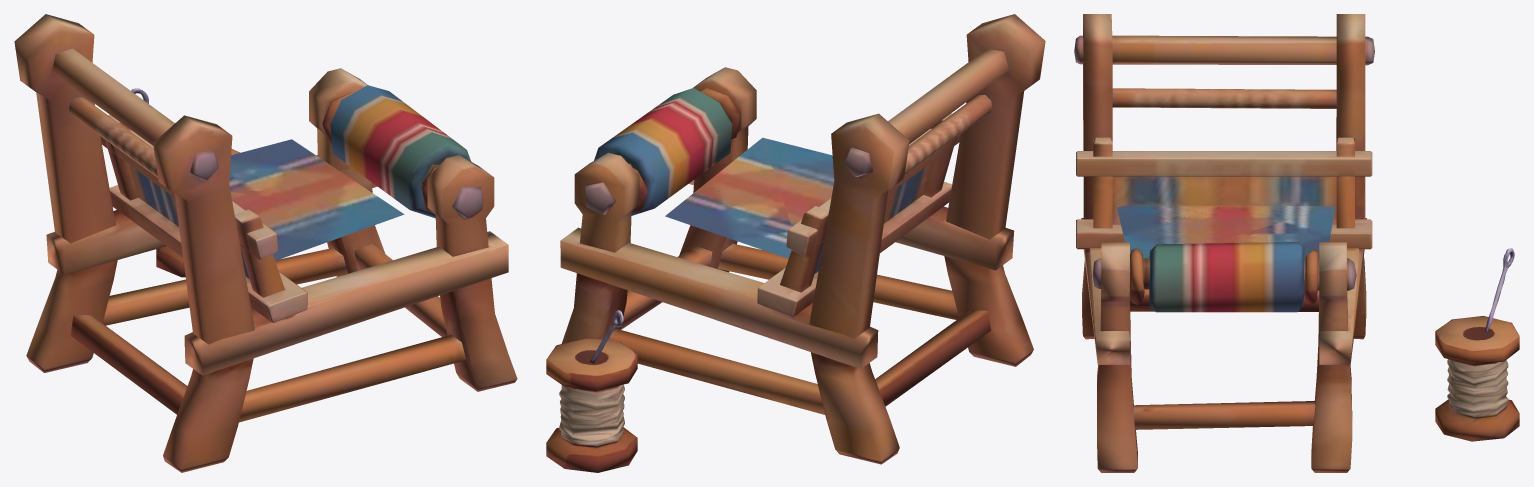
The model's file is tailoring_loom.glb.
3 views of the same model, side by side, from view 1: azimuth 30°, elevation 25°; view 2: azimuth 150°, elevation 25°; view 3: azimuth 270°, elevation 25° (orthographic). The views are drawn at different scales.
Parts seen in each view (by area): view 1: tripo_node_58de50f4-d821-4a67-9b0b-9f352d640a44; view 2: tripo_node_58de50f4-d821-4a67-9b0b-9f352d640a44; view 3: tripo_node_58de50f4-d821-4a67-9b0b-9f352d640a44.
Part boxes in pixels (bbox=[...]): tripo_node_58de50f4-d821-4a67-9b0b-9f352d640a44: bbox=[14, 14, 517, 472]; tripo_node_58de50f4-d821-4a67-9b0b-9f352d640a44: bbox=[546, 14, 1045, 472]; tripo_node_58de50f4-d821-4a67-9b0b-9f352d640a44: bbox=[1074, 14, 1519, 472].
Size of the model in its own units: 1.42 by 1.3 by 1.67.
Materials: 1 (1 with a texture image).
